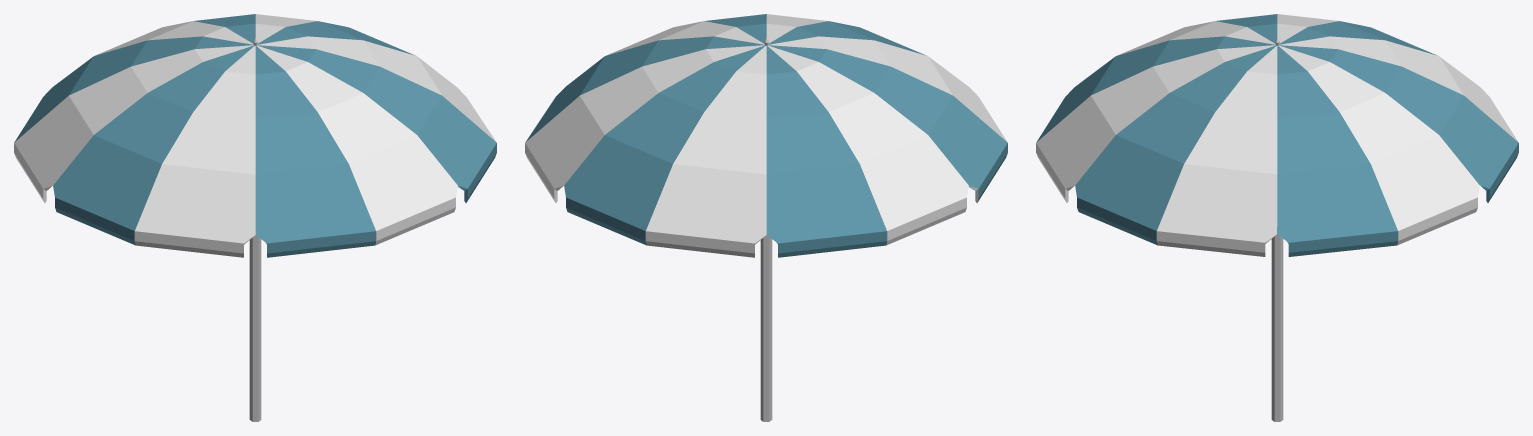
File: Umbrella_09.fbx
The picture shows the model from 3 angles, left to right: view 1: azimuth 30°, elevation 25°; view 2: azimuth 150°, elevation 25°; view 3: azimuth 270°, elevation 25°; orthographic projection.
Parts seen in each view (by area): view 1: Umbrella_09; view 2: Umbrella_09; view 3: Umbrella_09.
Boxes of the visible parts, x1,y1,x2,y2 form: Umbrella_09: [14, 14, 496, 421]; Umbrella_09: [525, 14, 1007, 421]; Umbrella_09: [1036, 14, 1518, 421].
Bounding box in the file's own units: 239 × 212 × 243.
